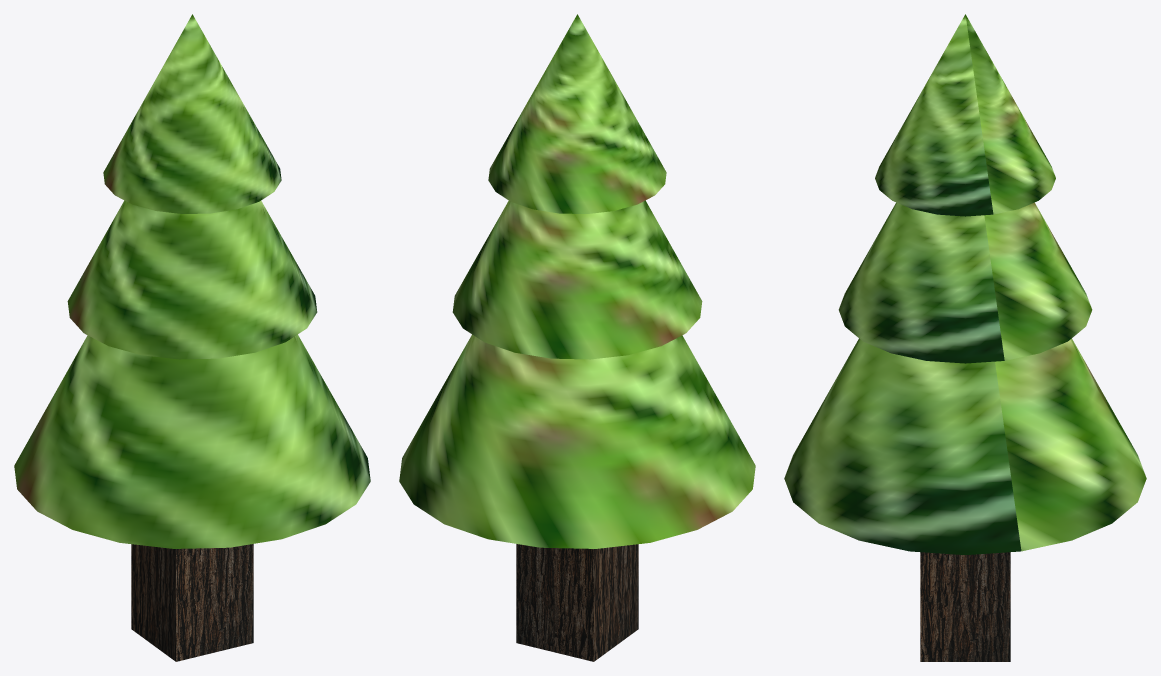
The model's file is tree3.fbx.
3 views of the same model, side by side, from view 1: azimuth 30°, elevation 25°; view 2: azimuth 150°, elevation 25°; view 3: azimuth 270°, elevation 25° (orthographic).
Visible parts, largest first — view 1: Tree; view 2: Tree; view 3: Tree.
Boxes of the visible parts, x1=… form: Tree: x1=14, y1=14, x2=370, y2=661; Tree: x1=399, y1=14, x2=755, y2=661; Tree: x1=784, y1=14, x2=1146, y2=661.
Bounding box in the file's own units: 20000 × 38290 × 20000.
2 materials, 2 textured.
